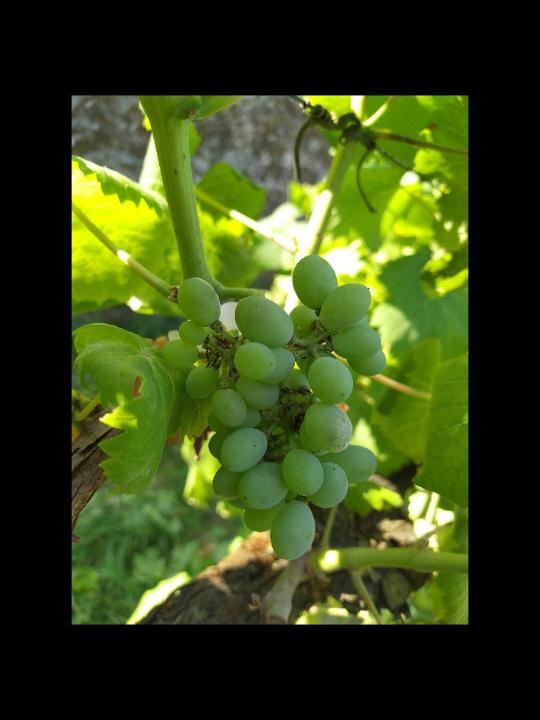grape: (158, 249, 391, 564)
